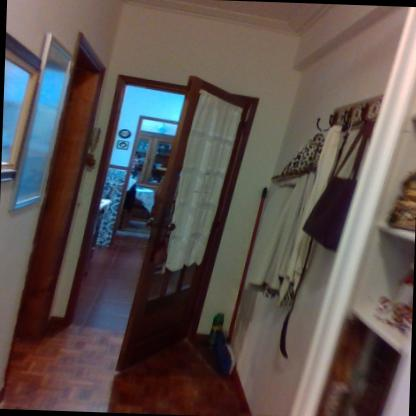semi: (56, 60, 265, 396)
